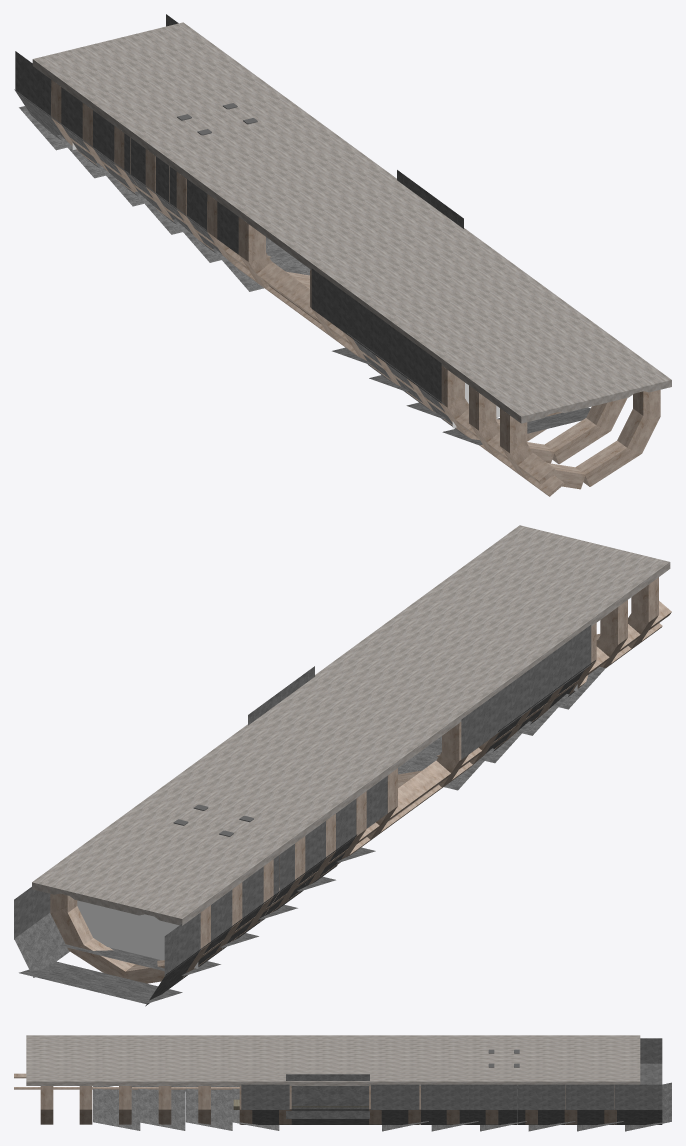
The model's file is MTL_garage.glb.
3 renders of one model, top to bottom at view 1: azimuth 30°, elevation 25°; view 2: azimuth 150°, elevation 25°; view 3: azimuth 270°, elevation 25°, orthographic. The views are drawn at different scales.
Visible parts, largest first — view 1: Cube, Cube.003, Plane, Plane.049, Cube.084, Plane.004, Plane.034, Cube.089, Cube.083, Plane.008, Plane.050, Plane.019 (+14 smaller); view 2: Cube, Plane.057, Plane.037, Plane.036, Cube.003, Plane, Plane.050, Plane.034, Plane.033, Plane.049, Plane.010, Plane.004 (+13 smaller); view 3: Cube, Plane.011, Plane.054, Plane.053, Plane.055, Plane.002, Plane.001, Plane.018, Plane.023, Plane.033, Plane.013, Plane.028 (+32 smaller).
Boxes of the visible parts, <box> form: Cube: <box>32,22,671,423</box>; Cube.003: <box>239,253,328,334</box>; Plane: <box>311,268,349,335</box>; Plane.049: <box>377,317,414,383</box>; Cube.084: <box>500,440,564,496</box>; Plane.004: <box>343,294,381,358</box>; Plane.034: <box>15,51,51,116</box>; Cube.089: <box>544,418,610,464</box>; Cube.083: <box>575,440,641,486</box>; Plane.008: <box>212,237,310,291</box>; Plane.050: <box>409,344,441,403</box>; Plane.019: <box>130,138,168,203</box>; Cube: <box>32,525,670,925</box>; Plane.057: <box>77,900,198,968</box>; Plane.037: <box>19,961,182,1003</box>; Plane.036: <box>14,913,69,977</box>; Cube.003: <box>367,760,450,840</box>; Plane: <box>461,692,499,759</box>; Plane.050: <box>553,625,591,692</box>; Plane.034: <box>164,913,200,976</box>; Plane.033: <box>14,887,50,939</box>; Plane.049: <box>526,646,563,711</box>; Plane.010: <box>398,736,494,790</box>; Plane.004: <box>499,672,526,731</box>; Cube: <box>26,1035,640,1085</box>; Plane.011: <box>286,1074,369,1118</box>; Plane.054: <box>138,1086,185,1130</box>; Plane.053: <box>185,1086,232,1130</box>; Plane.055: <box>93,1086,140,1130</box>; Plane.002: <box>241,1084,289,1109</box>; Plane.001: <box>371,1084,419,1109</box>; Plane.018: <box>469,1084,517,1109</box>; Plane.023: <box>517,1084,565,1109</box>; Plane.033: <box>614,1084,662,1109</box>; Plane.013: <box>421,1084,468,1109</box>; Plane.028: <box>566,1084,613,1109</box>.
Size of the model in its own units: 37.86 by 25.88 by 225.
25 materials, 18 textured.
